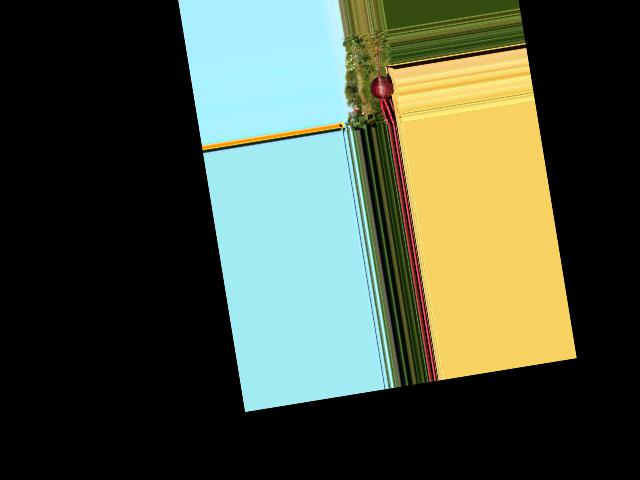beet: (362, 33, 399, 128)
